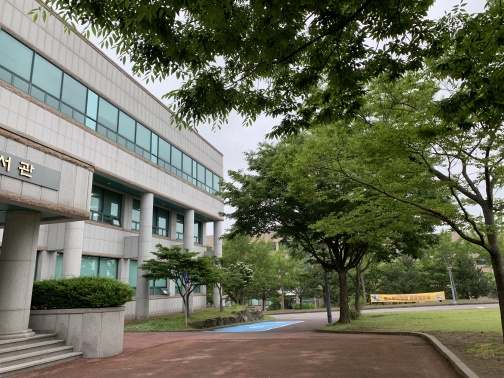Second Library: (5, 6, 223, 359)
